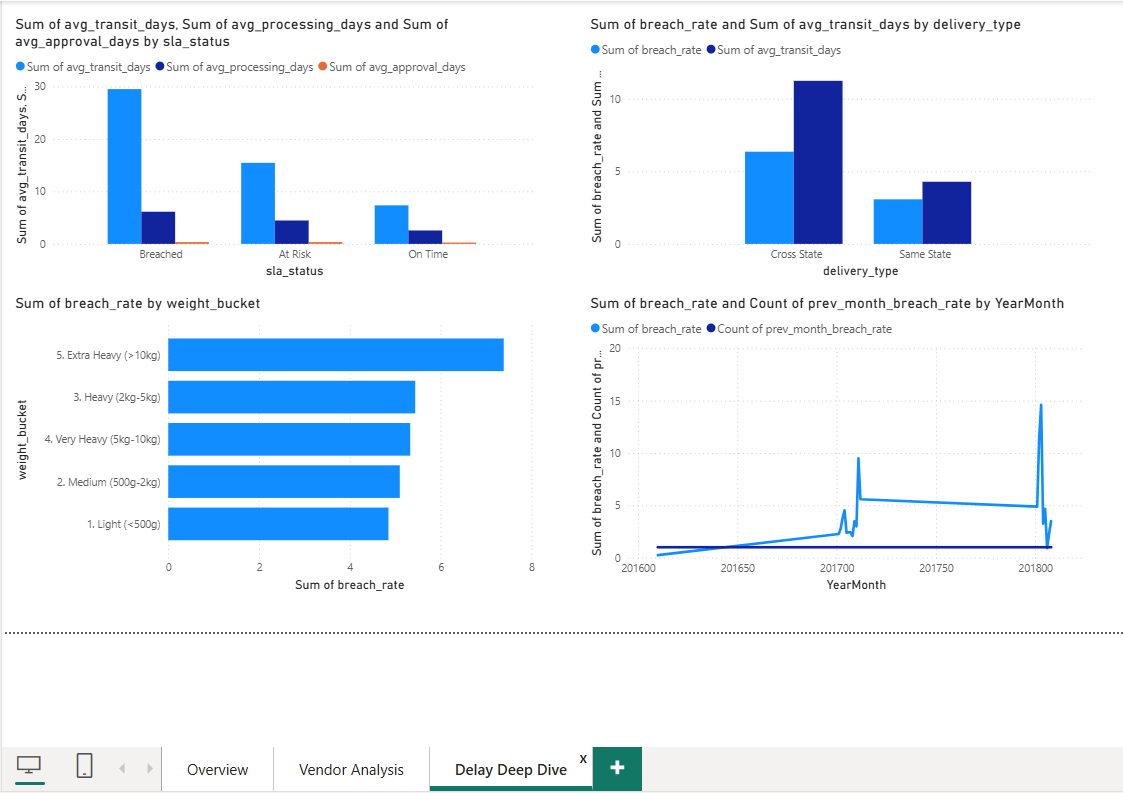

Layout of this report page (visuals, bound fields, positions):
{"tool":"powerbi","page":{"name":"Delay Deep Dive","canvas":[1280,720],"ordinal":2},"visuals":[{"type":"clusteredColumnChart","fields":{"Category":["pipeline_by_sla_status.sla_status"],"Y":["Sum(pipeline_by_sla_status.avg_transit_days)","Sum(pipeline_by_sla_status.avg_processing_days)","Sum(pipeline_by_sla_status.avg_approval_days)"]},"box":[10,15.7,602.9,305],"z":0},{"type":"clusteredBarChart","fields":{"Category":["weight_bucket_analysis.weight_bucket"],"Y":["Sum(weight_bucket_analysis.breach_rate)"]},"box":[10,333.5,602.9,344.9],"z":1},{"type":"clusteredColumnChart","fields":{"Category":["same_vs_cross_state.delivery_type"],"Y":["Sum(same_vs_cross_state.breach_rate)","Sum(same_vs_cross_state.avg_transit_days)"]},"box":[665.7,15.7,583,305],"z":2},{"type":"lineChart","fields":{"Category":["monthly_trend_lag.YearMonth"],"Y":["Sum(monthly_trend_lag.breach_rate)","CountNonNull(monthly_trend_lag.prev_month_breach_rate)"]},"box":[666,334,583,345],"z":3}]}

Visuals, with their boxes on the page's 1280x720 design canvas (x1, y1, x2, y2). These are canvas units, not pixel positions in the 1123x793 screenshot, which may show the page scaled, cropped or inside an application window:
clusteredColumnChart - pipeline_by_sla_status.sla_status x Sum(pipeline_by_sla_status.avg_transit_days): crop(10, 16, 613, 321)
clusteredBarChart - weight_bucket_analysis.weight_bucket x Sum(weight_bucket_analysis.breach_rate): crop(10, 334, 613, 678)
clusteredColumnChart - same_vs_cross_state.delivery_type x Sum(same_vs_cross_state.breach_rate): crop(666, 16, 1249, 321)
lineChart - monthly_trend_lag.YearMonth x Sum(monthly_trend_lag.breach_rate): crop(666, 334, 1249, 679)
